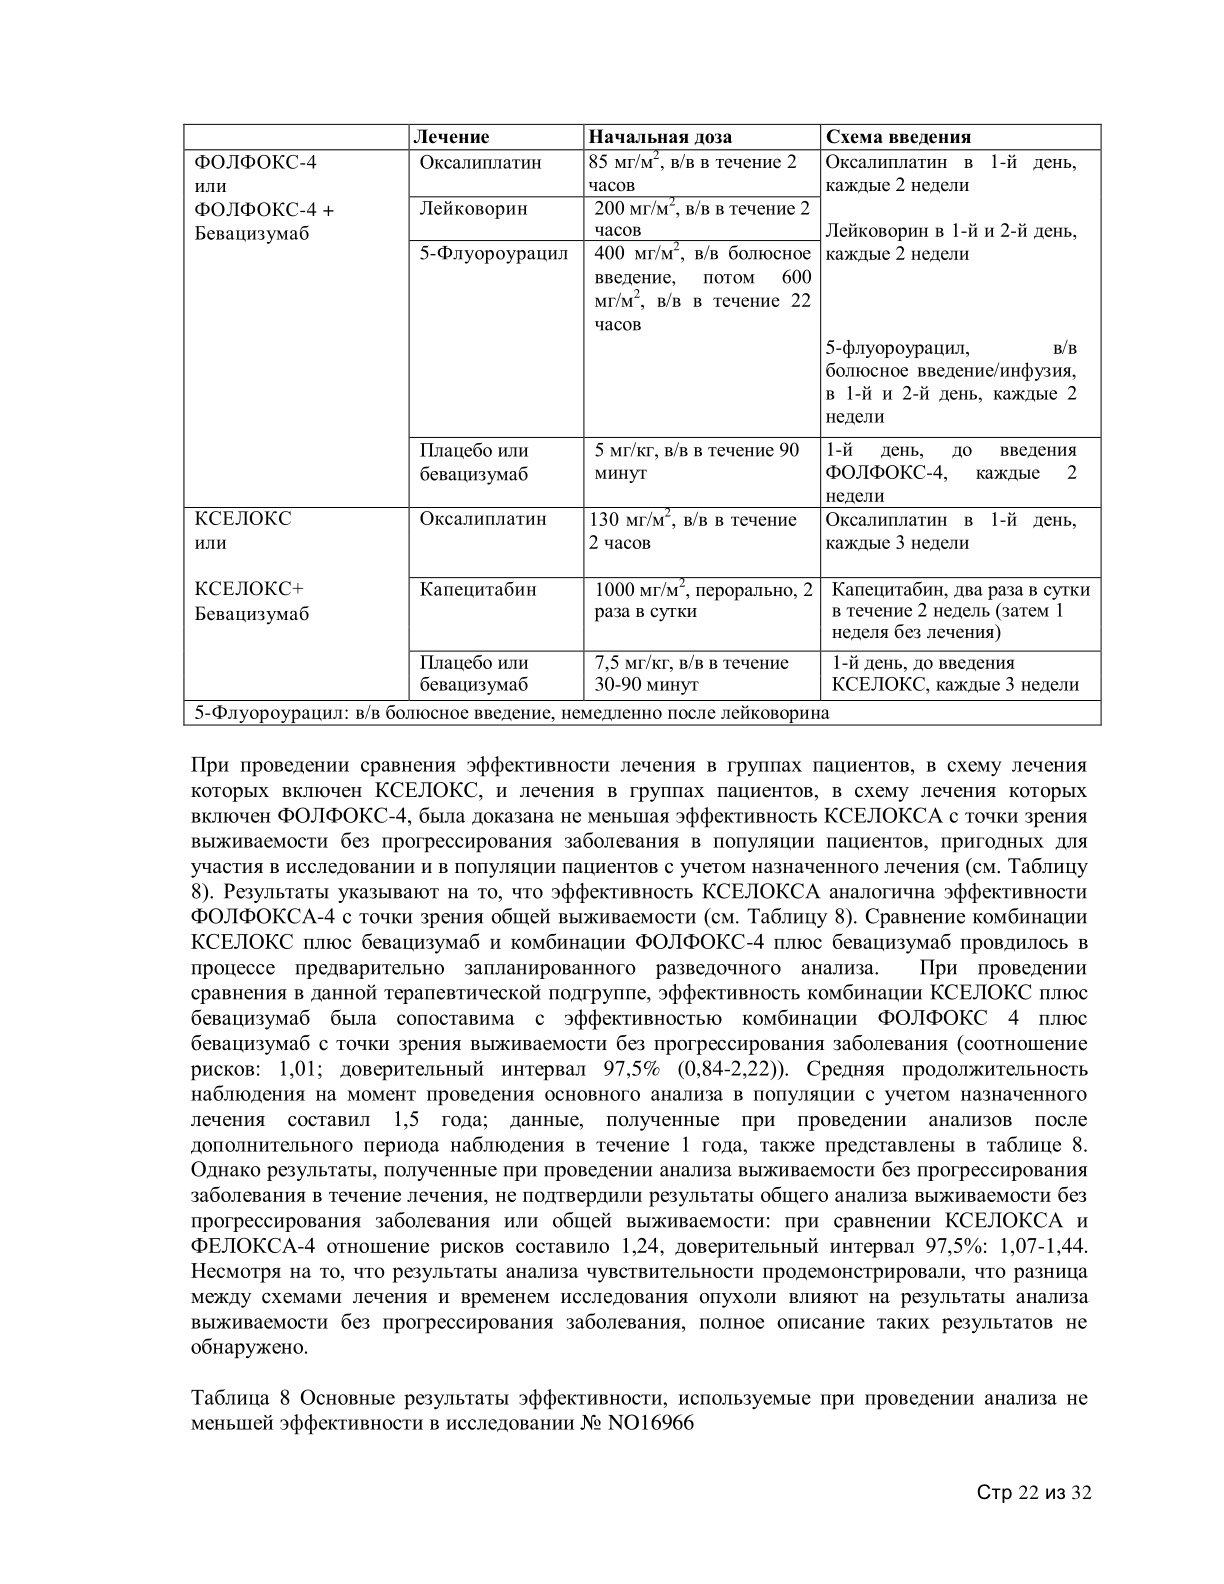merged_cells: (183, 122, 1103, 726)
